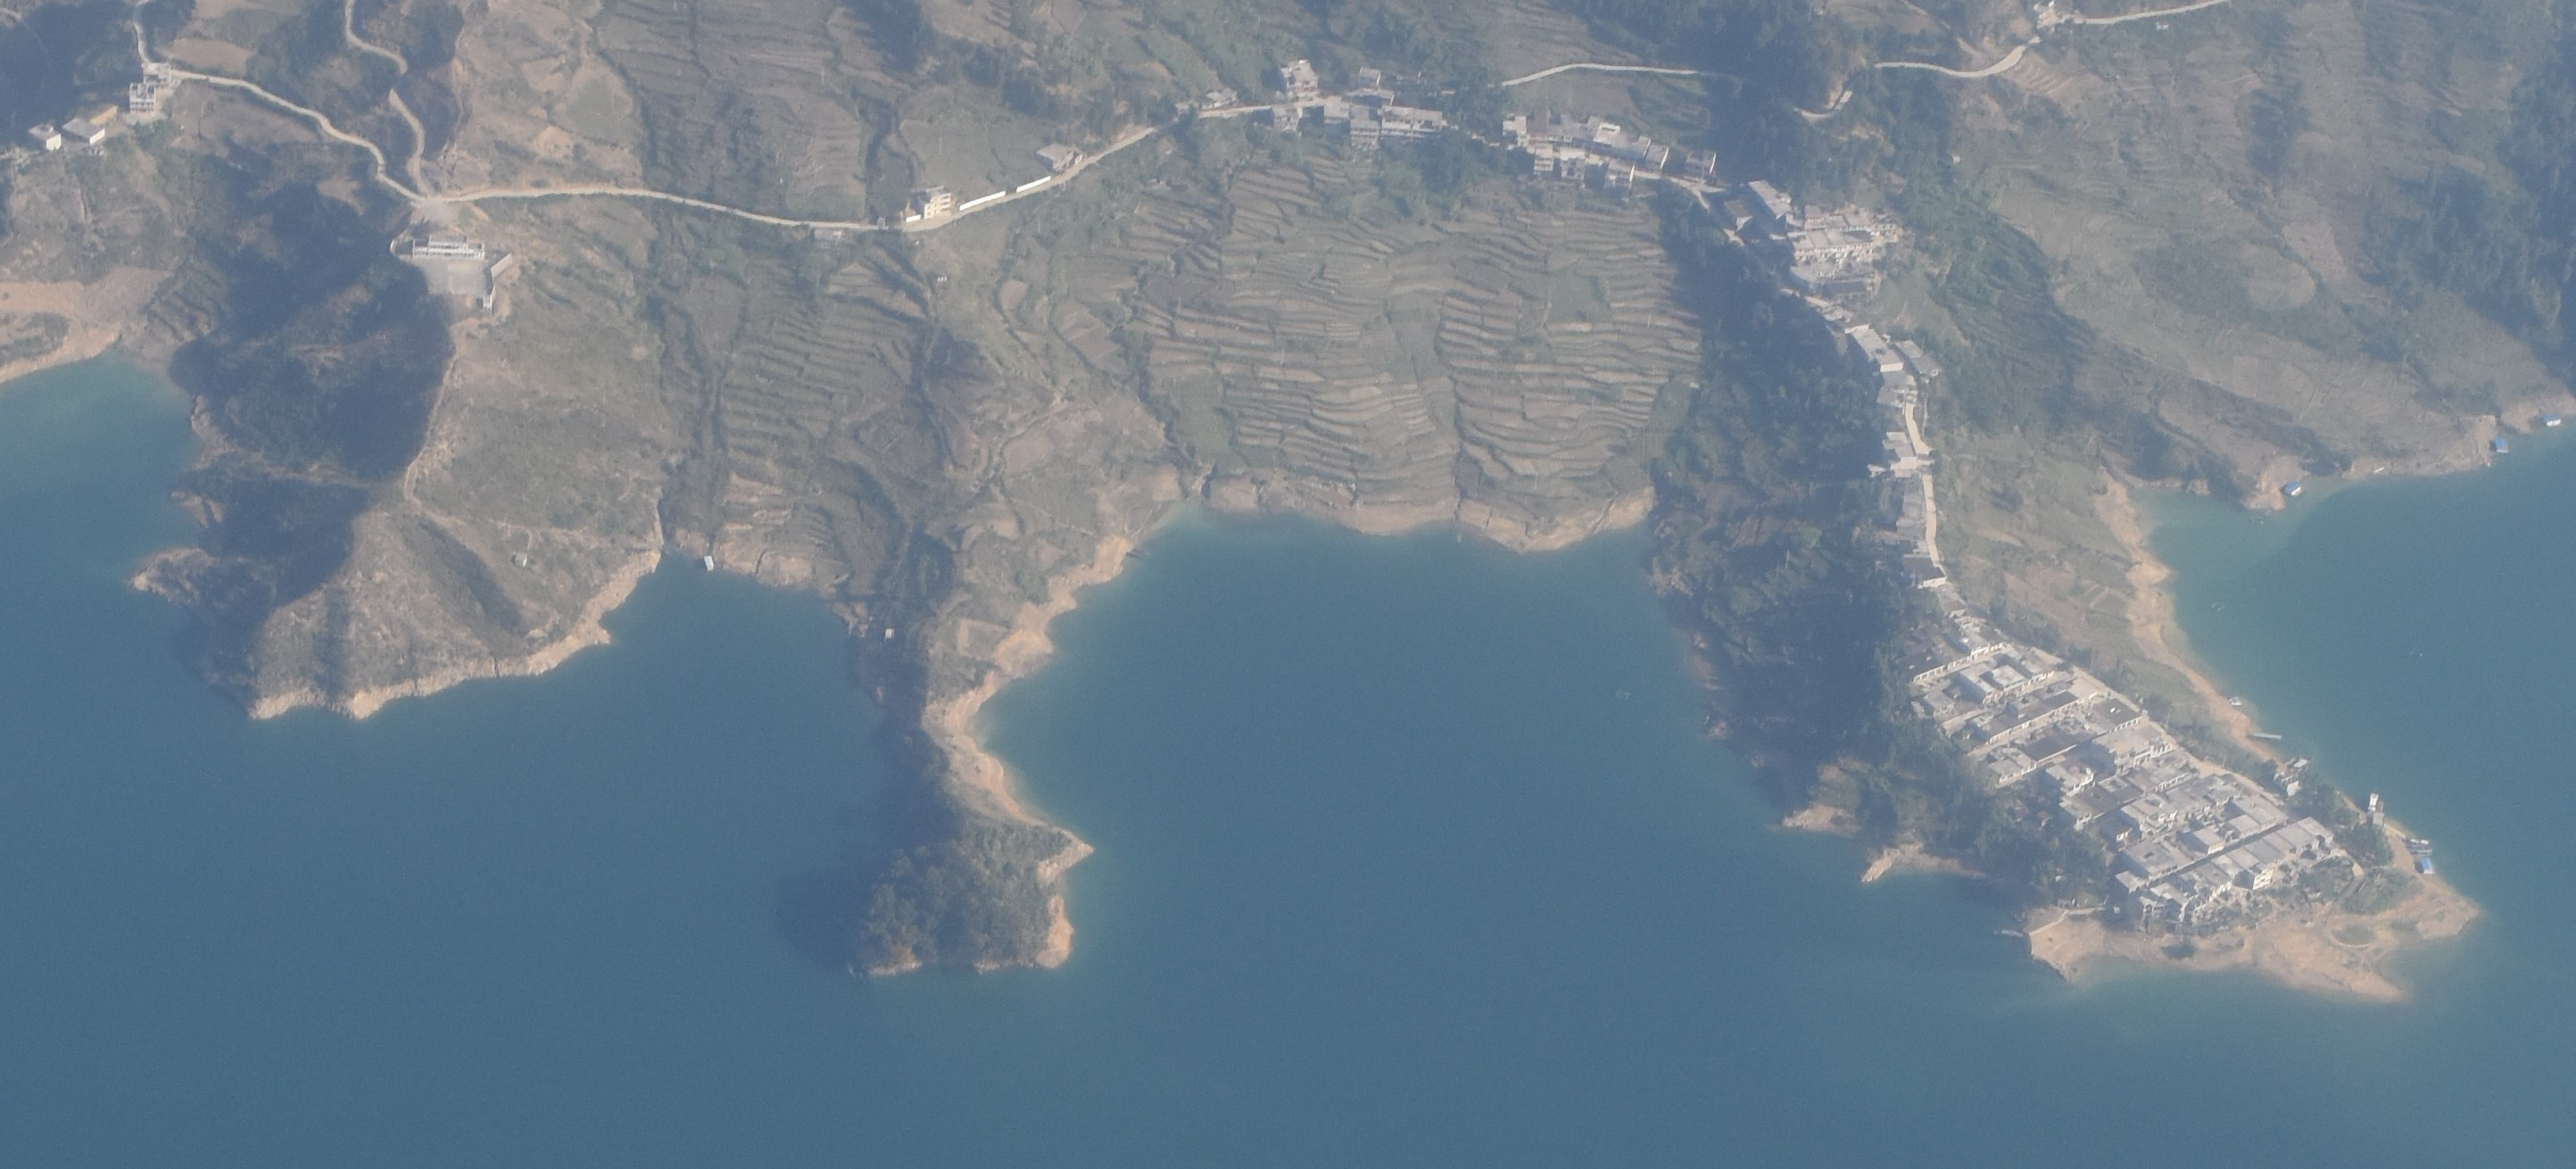building: (2134, 817, 2336, 914), (2116, 792, 2292, 894), (1970, 687, 2142, 784), (2098, 771, 2252, 871), (2045, 723, 2200, 820), (1911, 653, 2055, 725), (1498, 112, 1672, 168), (1943, 681, 2080, 751), (1899, 623, 2004, 684), (1848, 329, 1907, 406), (1786, 227, 1886, 266), (1782, 288, 1870, 332), (1897, 528, 1947, 589), (1380, 105, 1444, 148), (1784, 201, 1896, 224), (1866, 431, 1917, 477), (409, 233, 485, 263), (1341, 66, 1395, 105), (1950, 615, 2006, 653), (1746, 176, 1792, 220), (130, 61, 171, 110), (902, 184, 953, 224), (1896, 483, 1927, 539), (1278, 58, 1319, 99), (1896, 339, 1940, 377), (1033, 140, 1084, 173), (1175, 87, 1239, 112), (1350, 102, 1382, 151), (1600, 161, 1636, 194), (1723, 197, 1755, 235), (1684, 150, 1718, 183), (62, 117, 105, 143), (1932, 580, 1965, 613), (26, 122, 64, 148), (1270, 104, 1301, 135), (1322, 99, 1352, 130), (1561, 158, 1589, 191), (1870, 521, 1897, 552), (1533, 145, 1556, 176), (2367, 794, 2385, 830), (2272, 771, 2300, 794), (813, 227, 843, 242), (884, 628, 894, 656), (514, 552, 529, 567)
prefabricated-house: (2284, 482, 2303, 497), (2543, 411, 2561, 426), (2418, 855, 2431, 873), (2495, 437, 2509, 455), (705, 554, 713, 571)
ship: (2249, 732, 2282, 742)
